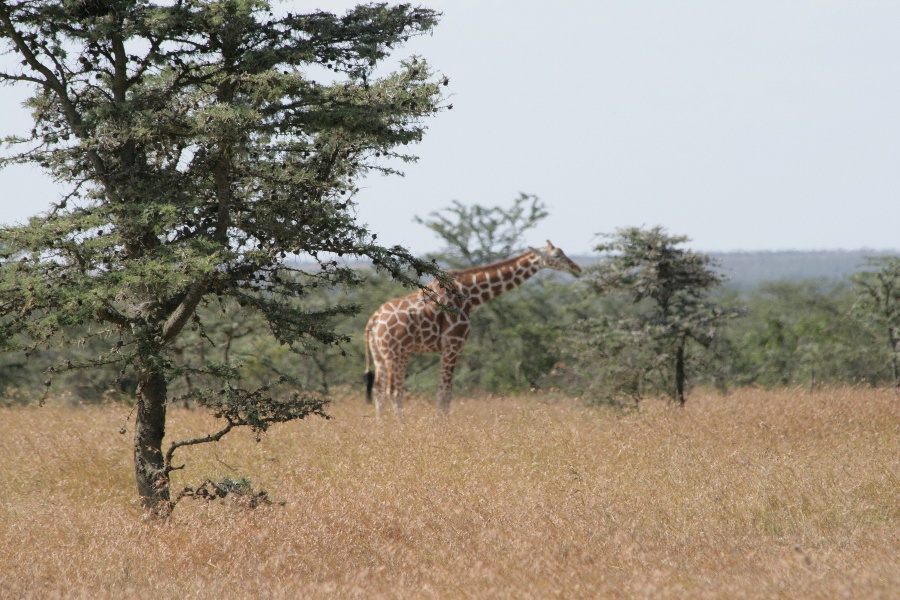giraffe: (356, 232, 593, 433)
